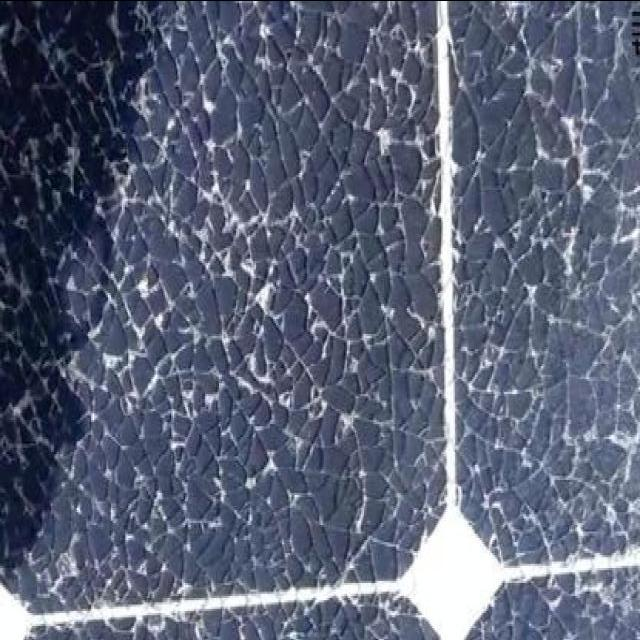cracked: (3, 4, 639, 638)
